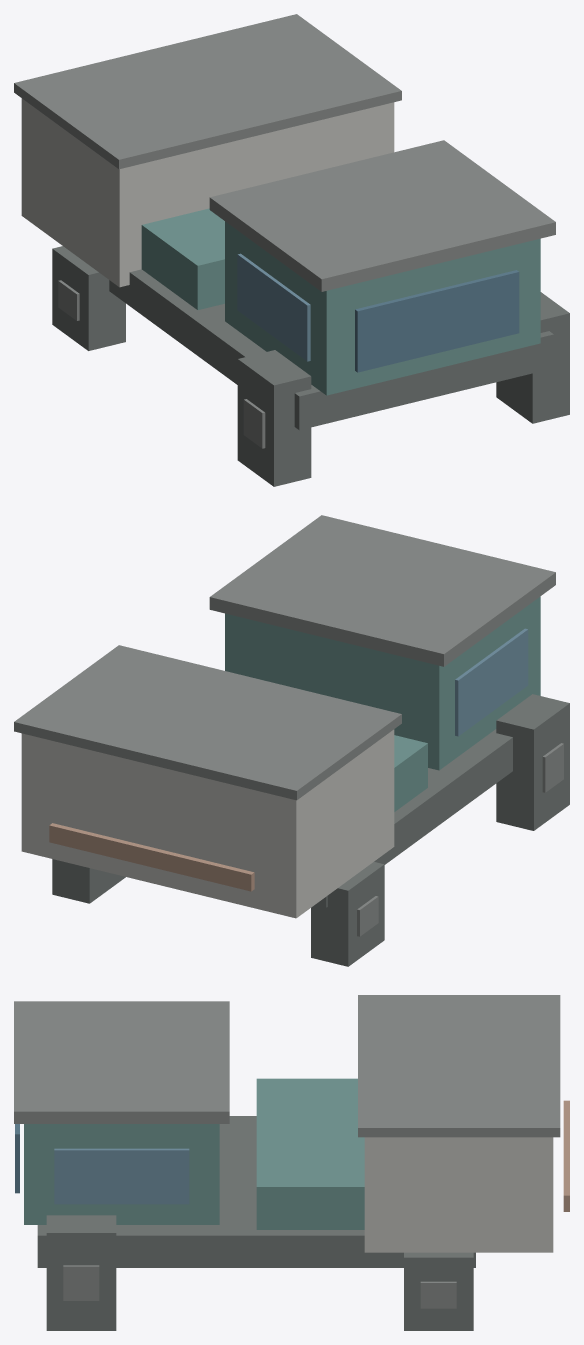
File: truck_2x3.glb
3 views of the same model, one above another, from view 1: azimuth 30°, elevation 25°; view 2: azimuth 150°, elevation 25°; view 3: azimuth 270°, elevation 25° (orthographic). The views are drawn at different scales.
Visible parts, largest first — view 1: truck_2x3; view 2: truck_2x3; view 3: truck_2x3.
Part boxes in pixels (<box>): truck_2x3: <box>14,14,569,486</box>; truck_2x3: <box>14,515,569,966</box>; truck_2x3: <box>14,995,569,1330</box>.
Size of the model in its own units: 2.98 by 2.01 by 4.95.
